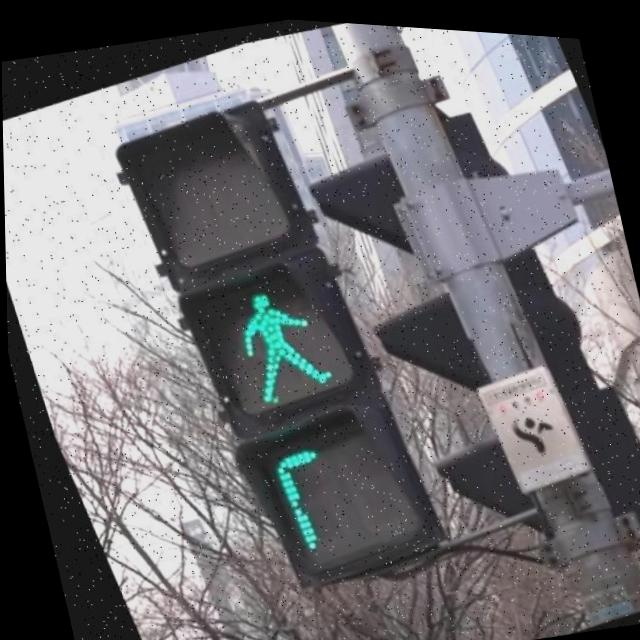green_light: (166, 233, 418, 590)
